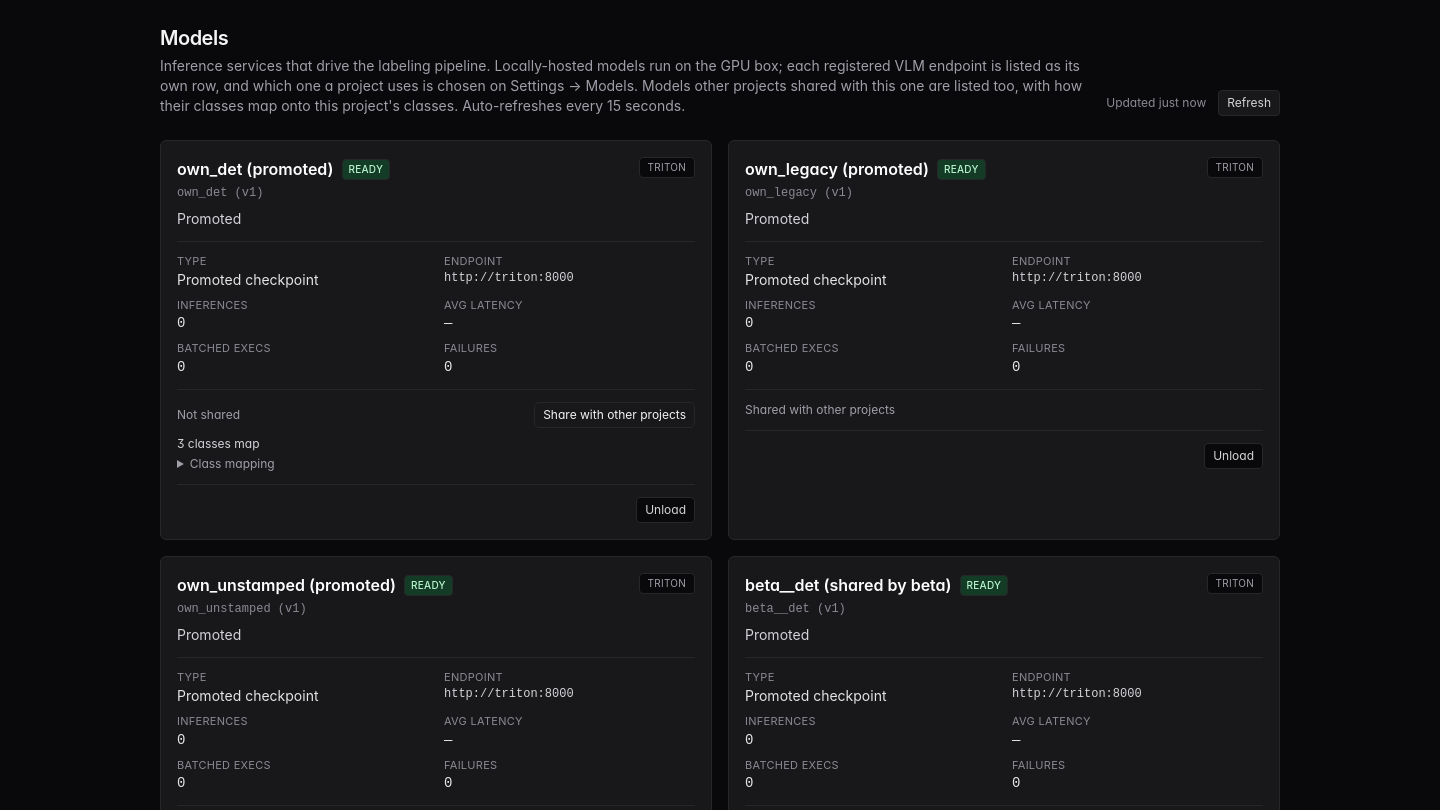
Test: /models sharing › share is confirm-gated and sends the served revision, then reloads
Click the button "Share with other projects".
click(615, 415)  # box [534,402,695,428]
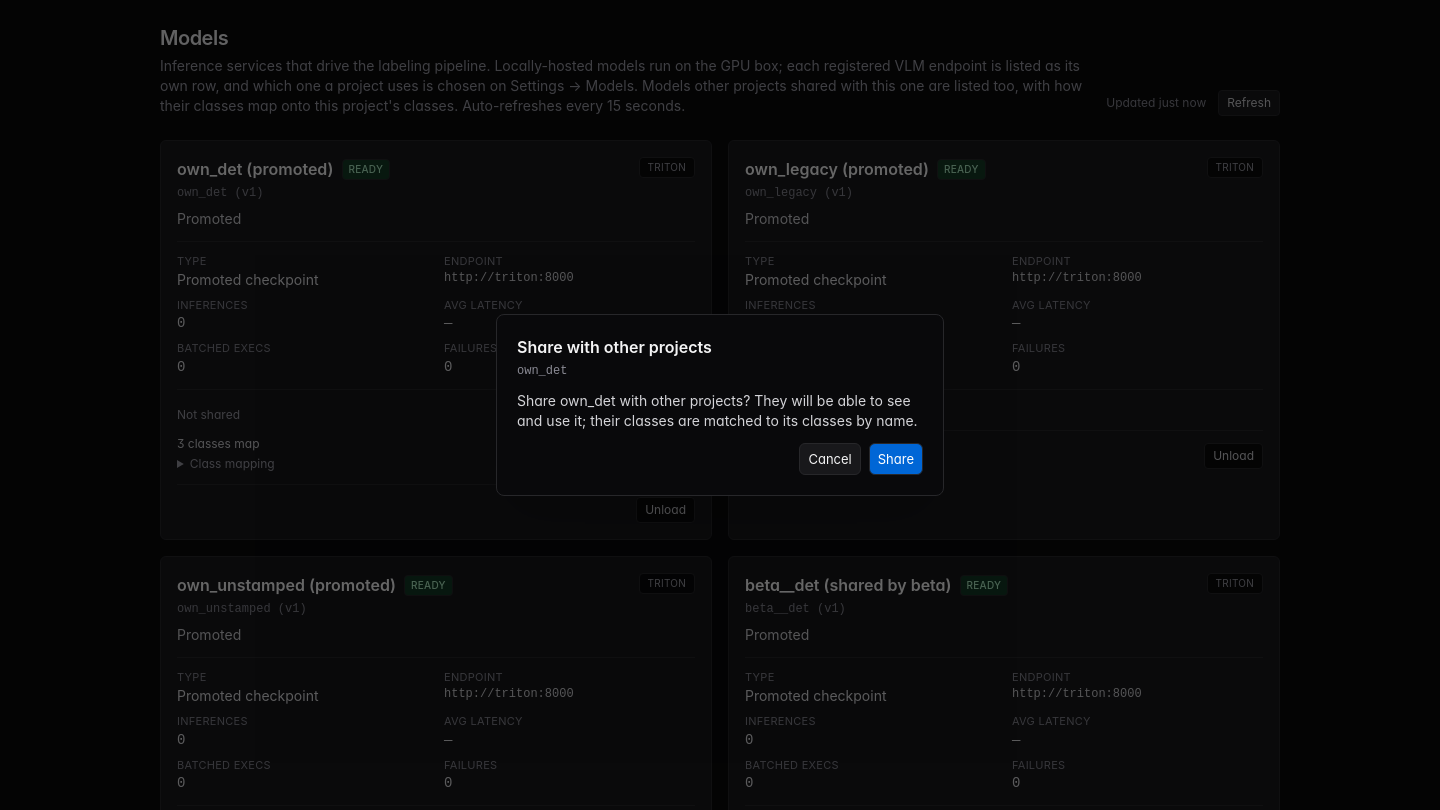
Click the button "Share".
click(896, 459)  # box [869,443,923,475]
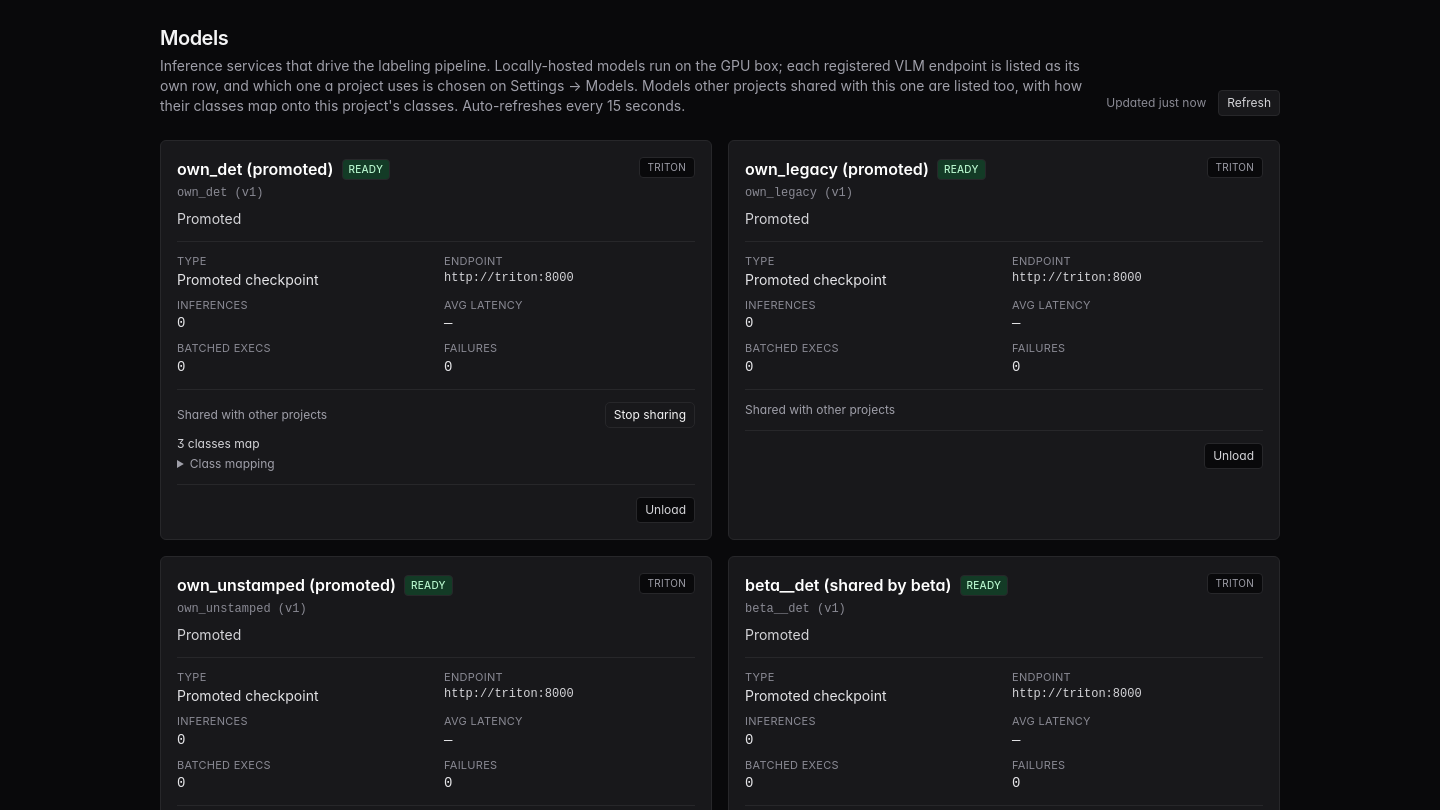
Expected: the text with test id "model-sharing-state" below "own_det (promoted)" reads "Shared with other projects", [177,407,327,422]
